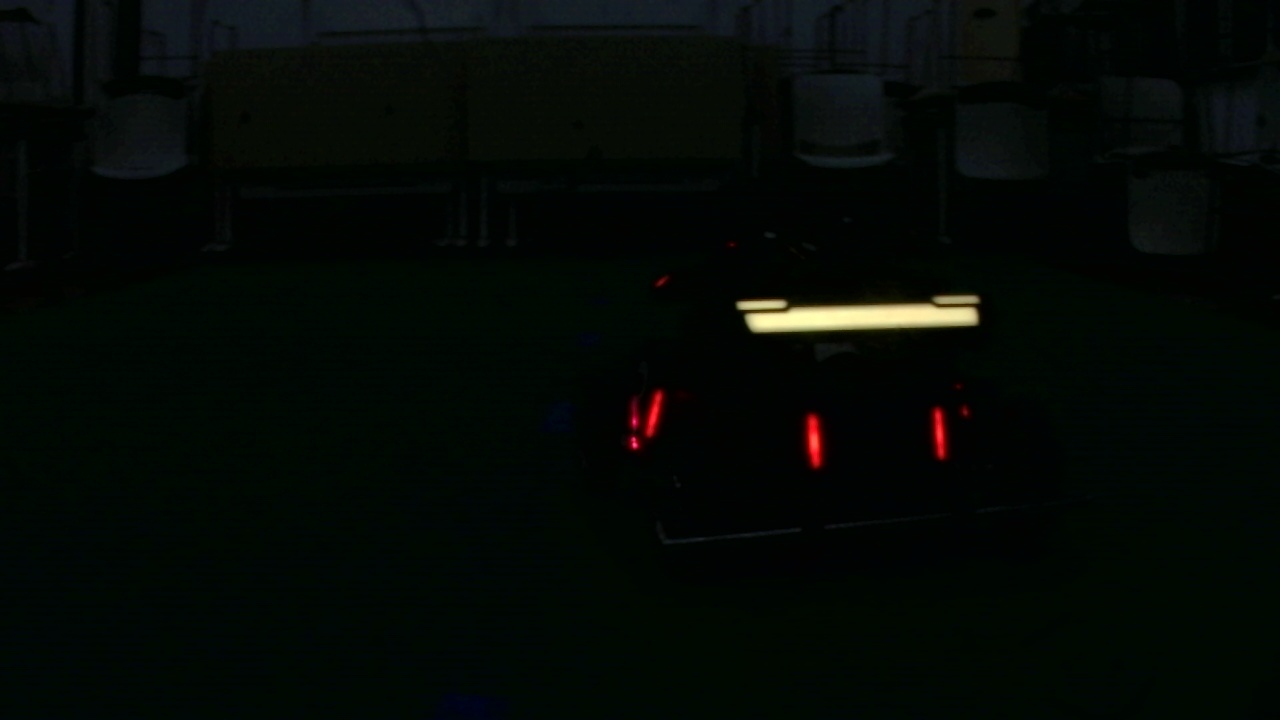lamp: (929, 404, 950, 463), (642, 383, 661, 439), (806, 406, 824, 464)
notpair1: (641, 386, 822, 475)
pair1: (804, 411, 947, 465)
